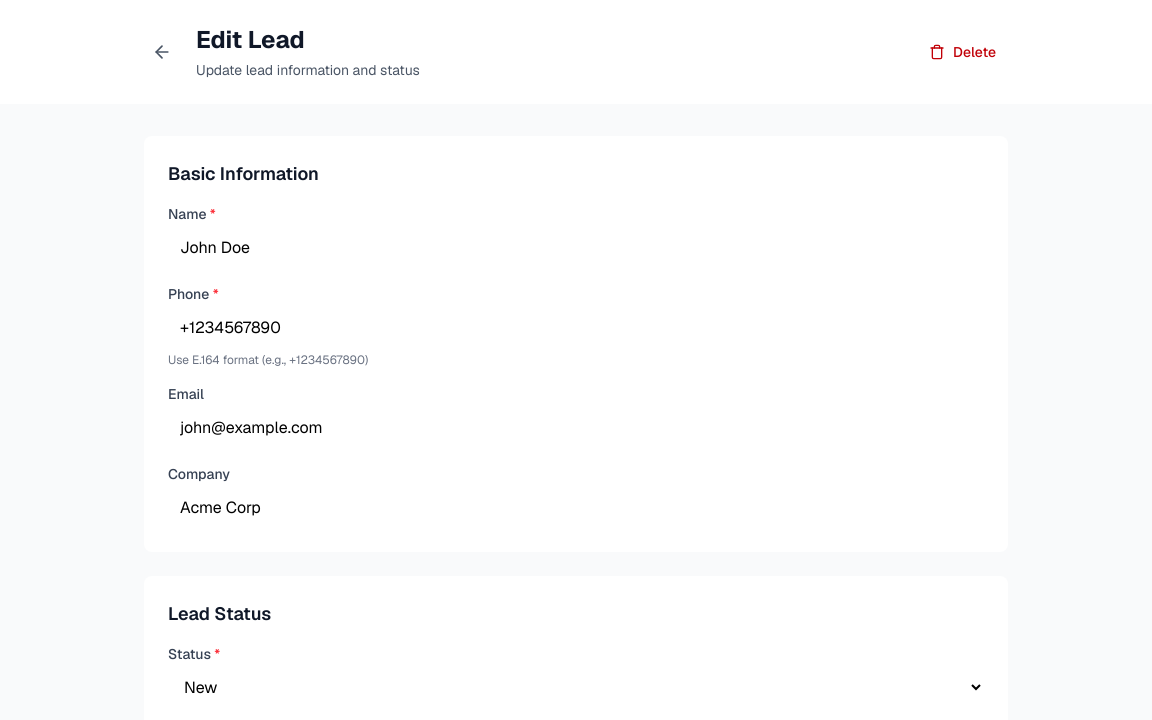
Scenario: EditLeadPage › Lead Deletion › should show delete confirmation modal
The image size is (1152, 720).
Expected: the field showing "John Doe" is shown, [168, 228, 984, 268]
Click the button "Delete": (962, 52) [917, 34, 1008, 70]
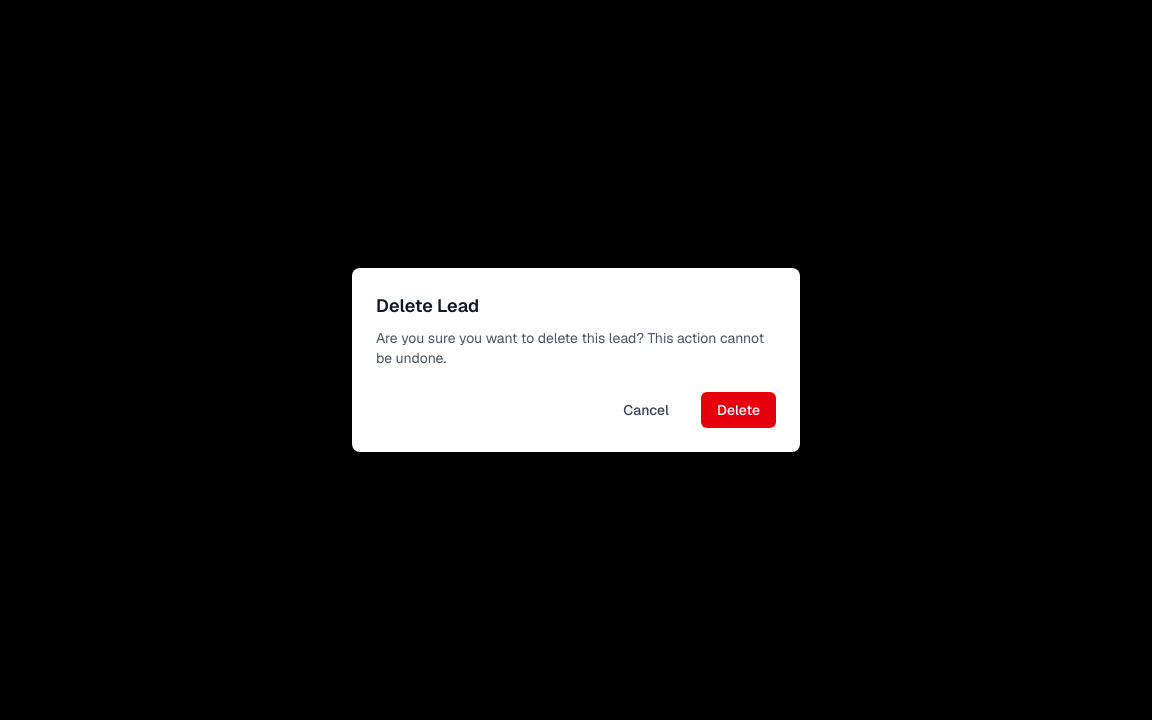
Expected: the text "Are you sure you want to delete this lead" is shown, [376, 329, 764, 367]
